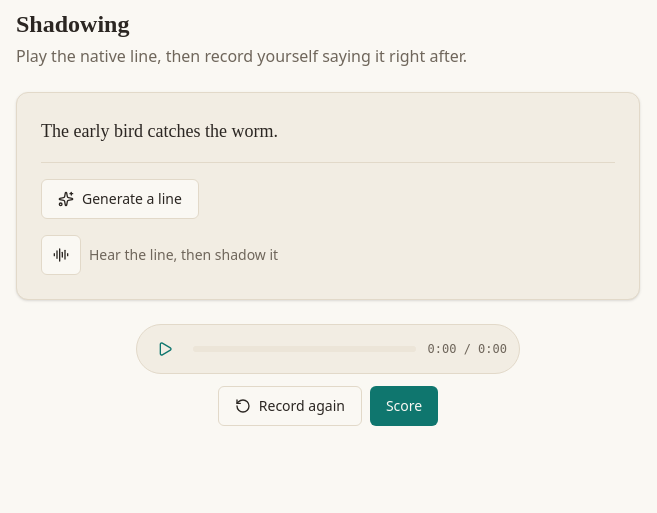
Scenario: Shadowing › should surface an actionable message when scoring fails
This screenshot has width=657, height=513.
Click the button "Score".
click(404, 406)  # box [370,386,438,426]
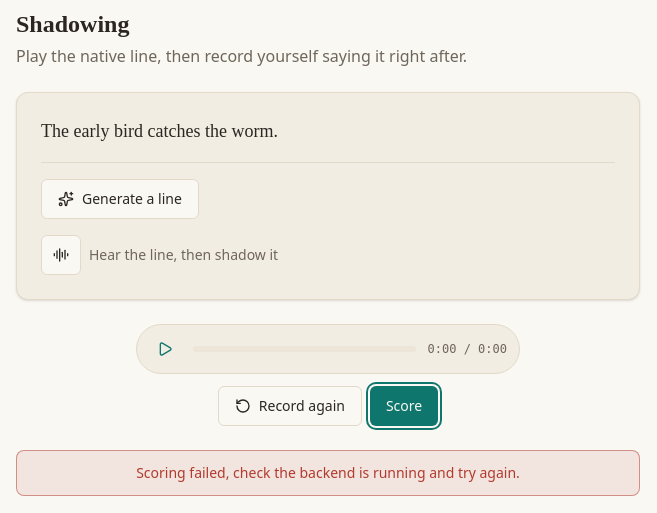
Expected: the message shows "Scoring failed", [136,463,520,482]
